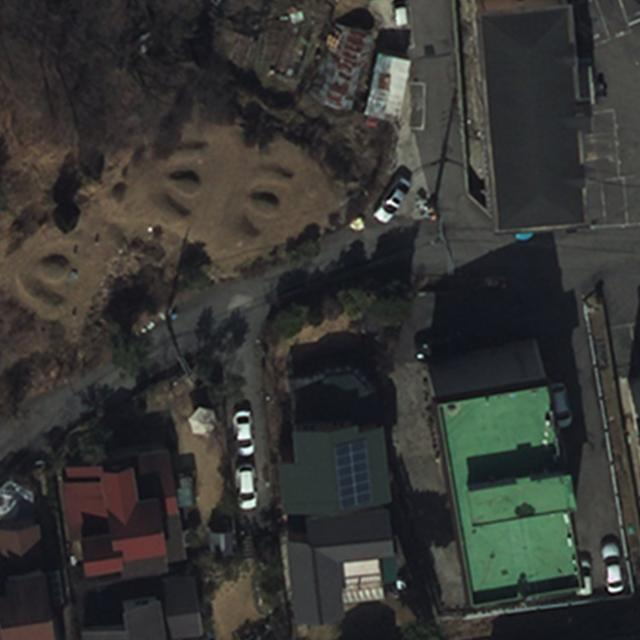panel: (330, 436, 375, 513)
